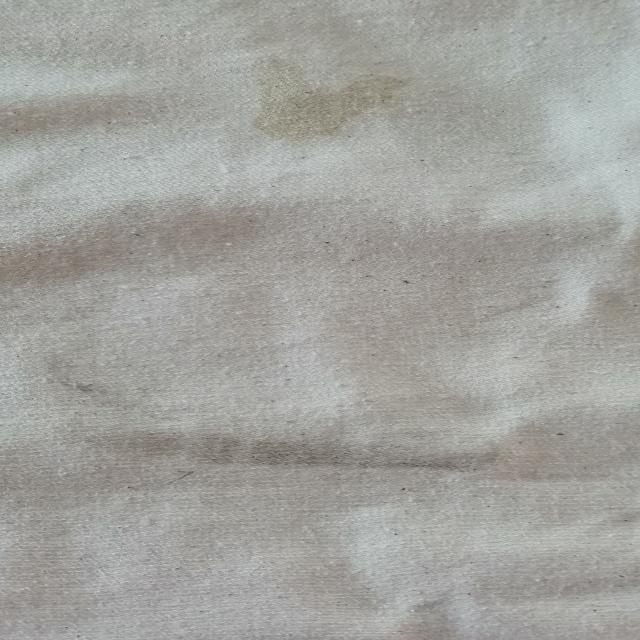taaaches: (46, 418, 536, 489), (228, 48, 414, 150), (20, 358, 126, 400)
